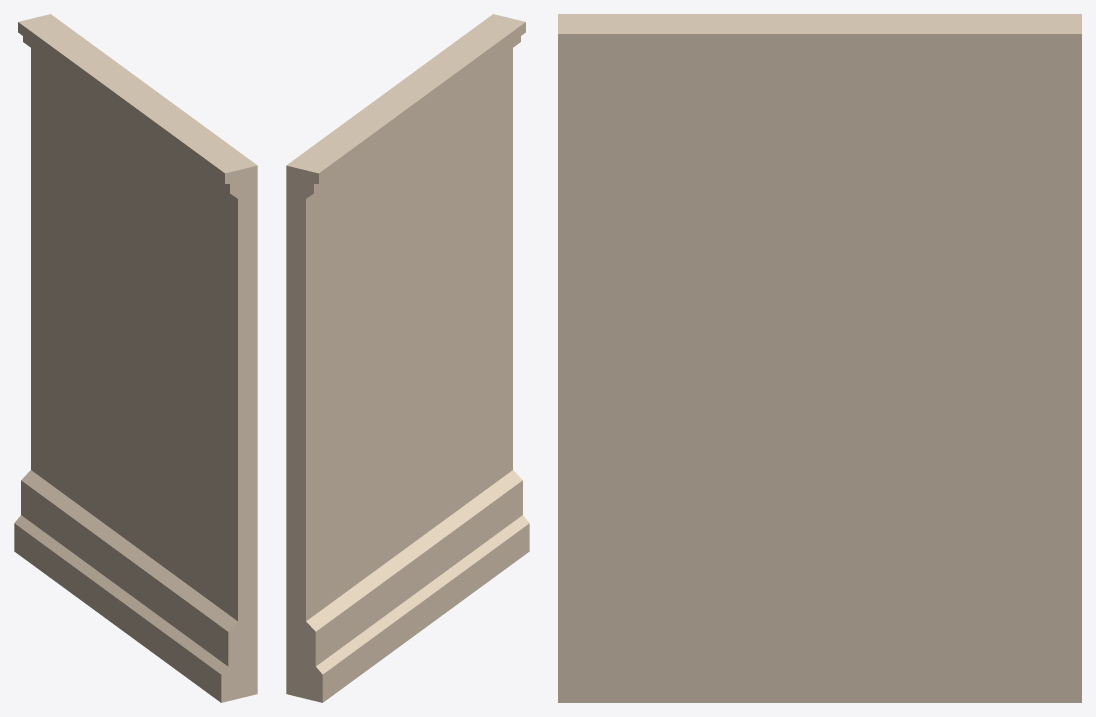
File: BC_DoorWall_C.fbx
The picture shows the model from 3 angles, left to right: view 1: azimuth 30°, elevation 25°; view 2: azimuth 150°, elevation 25°; view 3: azimuth 270°, elevation 25°; orthographic projection. The views are drawn at different scales.
Visible parts, largest first — view 1: BC_DoorWall_C; view 2: BC_DoorWall_C; view 3: BC_DoorWall_C.
Boxes of the visible parts, x1=… form: BC_DoorWall_C: x1=14, y1=14, x2=257, y2=702; BC_DoorWall_C: x1=286, y1=14, x2=529, y2=702; BC_DoorWall_C: x1=558, y1=14, x2=1081, y2=702.
Size of the model in its own units: 81.42 by 1127 by 800.
